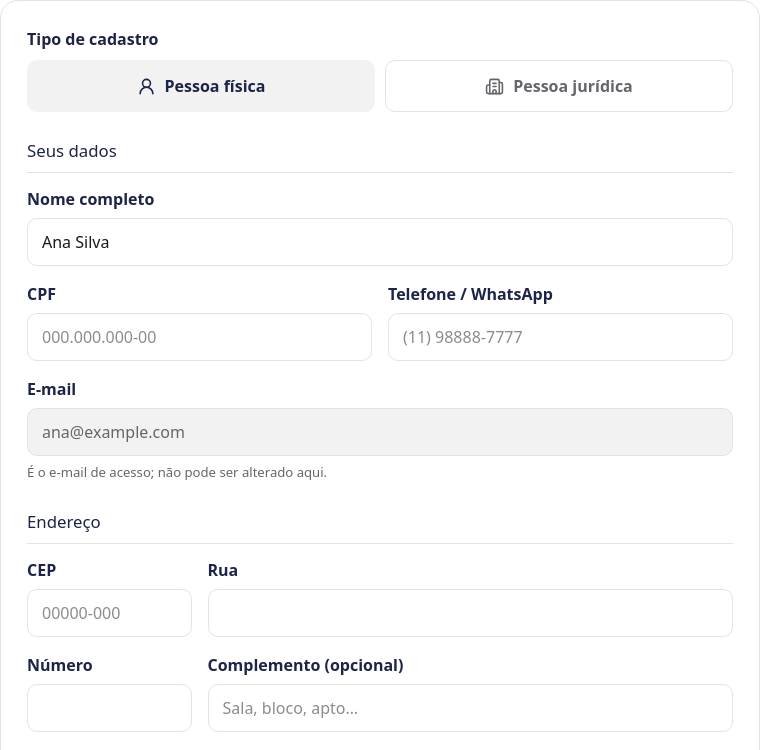
Test: cadastro completo na Minha conta › em pessoa jurídica pede CNPJ, razão social, nome fantasia, inscrição estadual e o responsável
Click the radio button labelled "Pessoa jurídica" at (559, 86), box [385, 60, 733, 112]
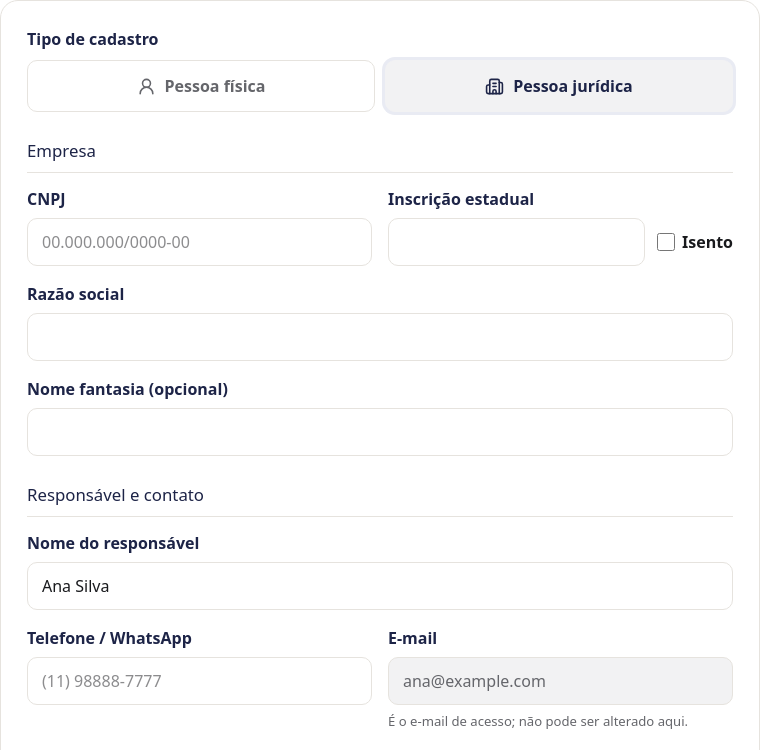
Now the field labelled "Razão social" is shown, box [27, 313, 733, 361]
Now the field labelled "Nome fantasia (opcional)" is shown, box [27, 408, 733, 456]
Now the field labelled "Inscrição estadual" is shown, box [388, 218, 645, 266]
